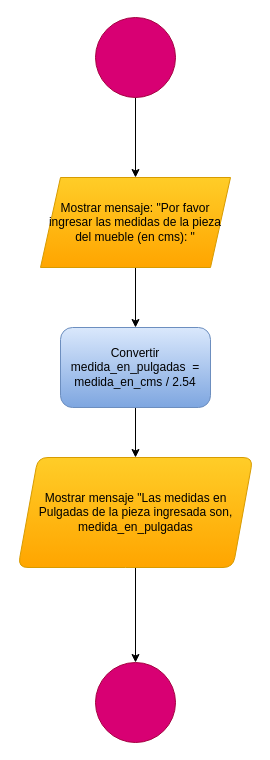
This 270x760 diagram has some shape labels left out. The box of each missing label's shape, as (x1, y1, x2, y2) in pixels:
FIN: (94, 662, 176, 742)
INICIO: (94, 16, 176, 98)
